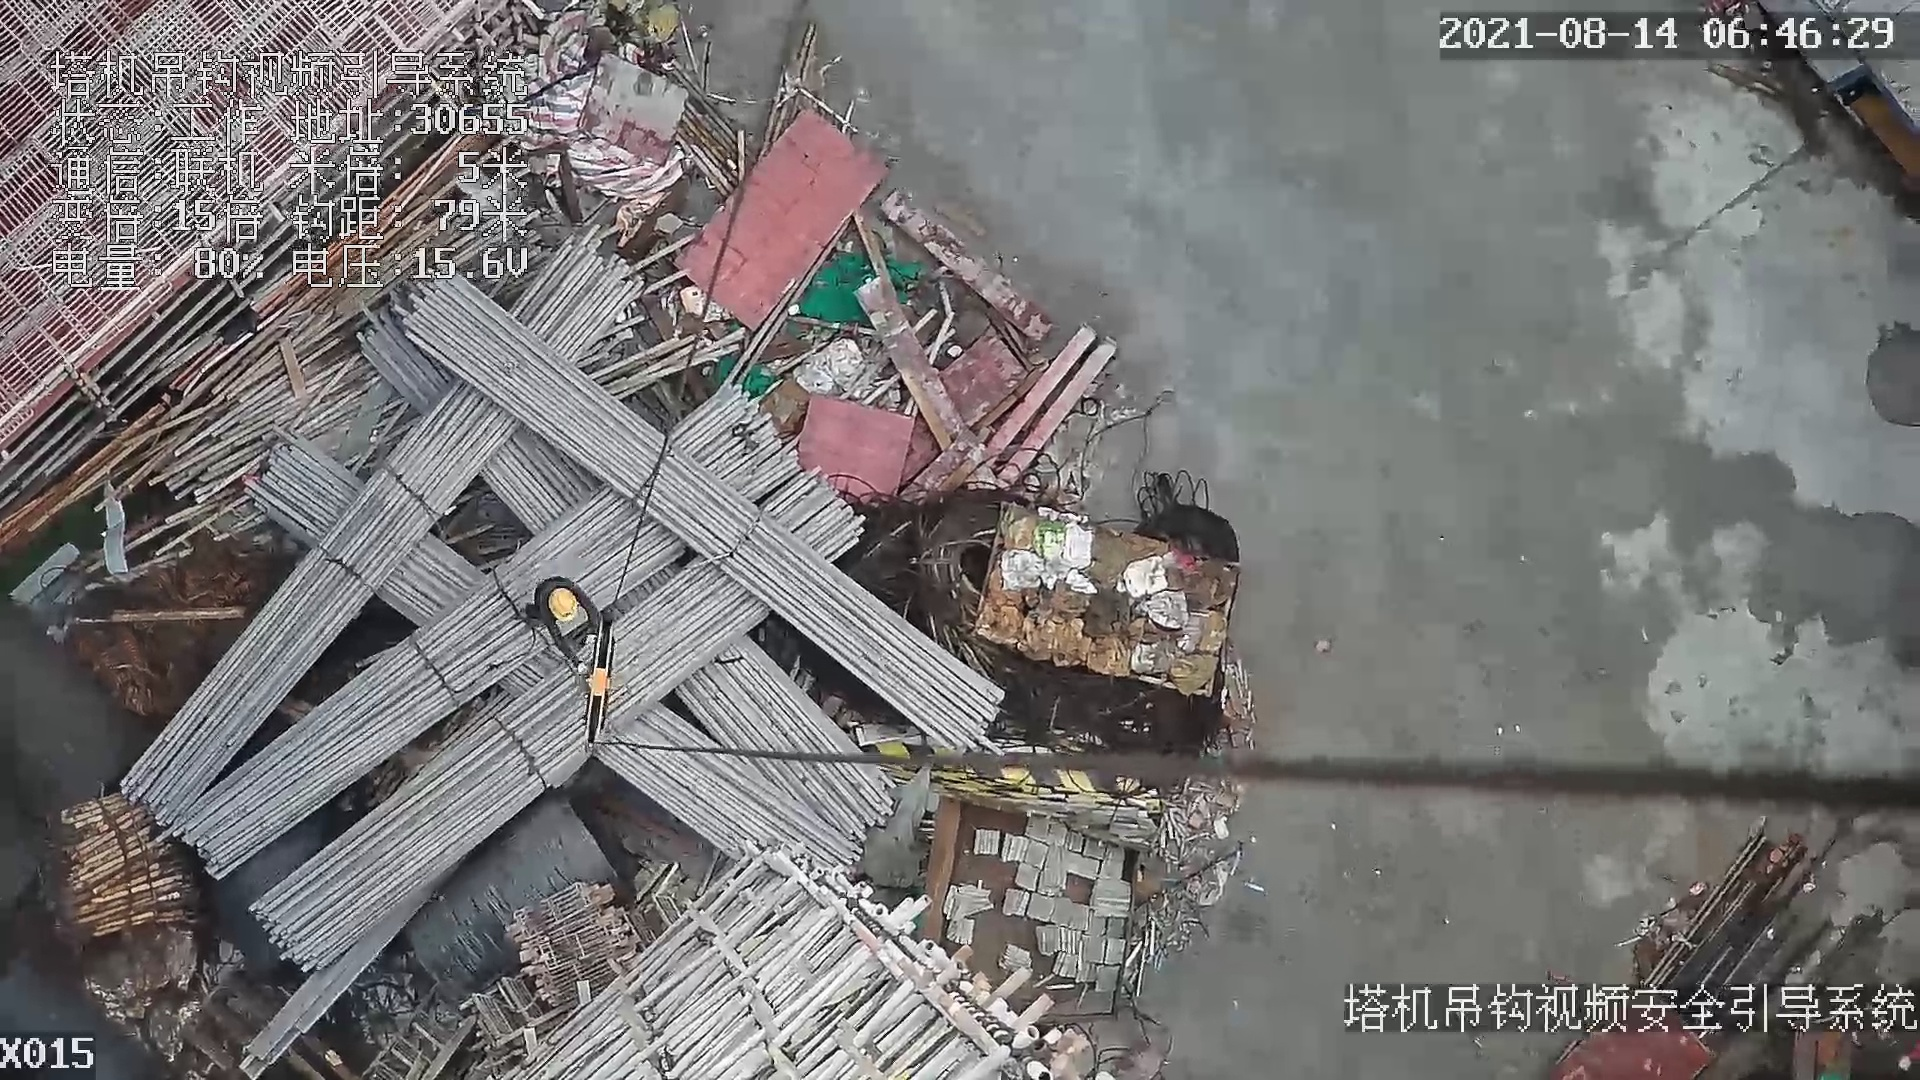board: (671, 109, 878, 331)
helmet: (547, 589, 575, 616)
hook: (573, 617, 622, 746)
person: (518, 568, 603, 674)
scaffold: (60, 798, 201, 942)
